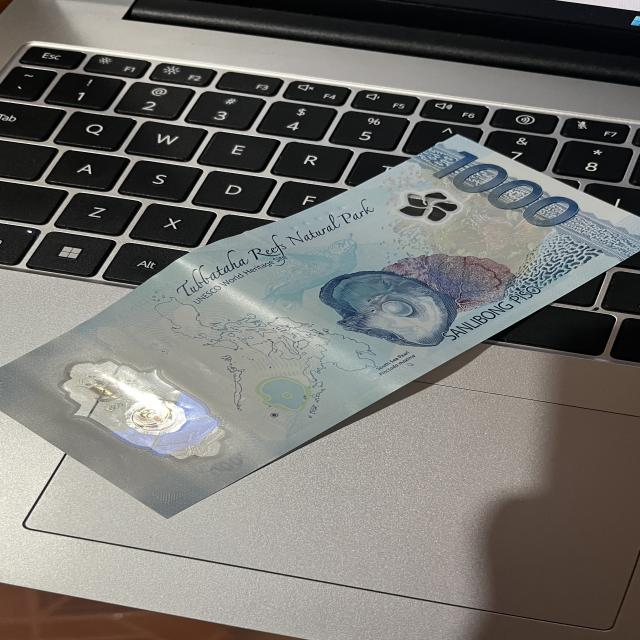1000_pearl: (294, 265, 458, 376)
1000_pearl_watermark: (238, 364, 330, 425)
